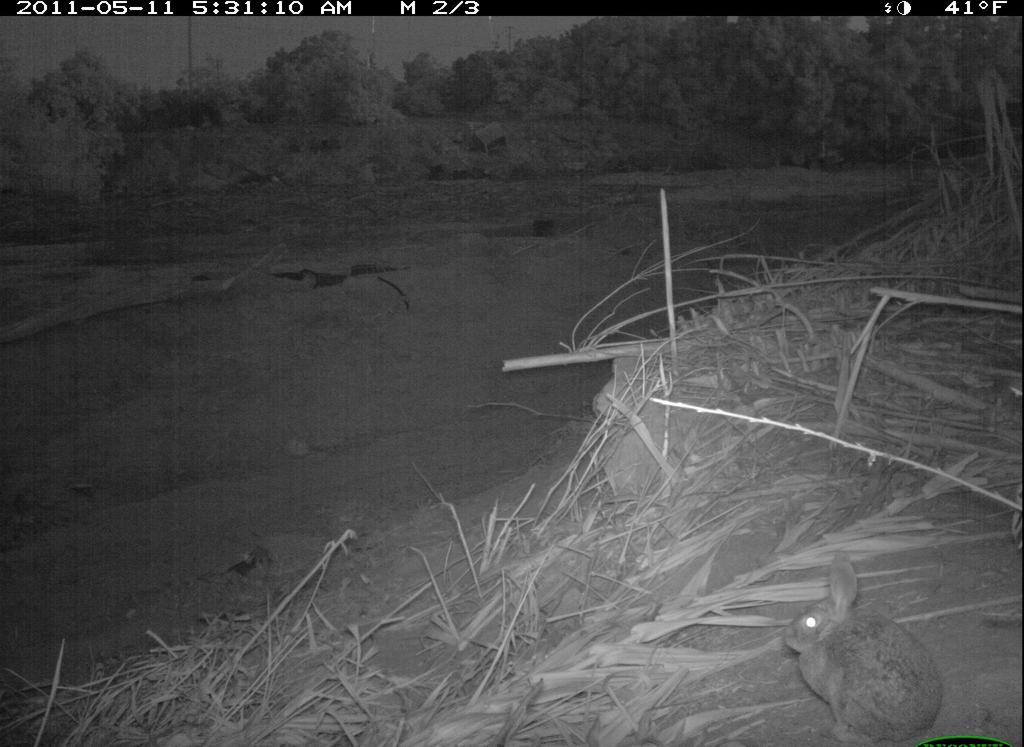rabbit: (791, 547, 950, 747)
